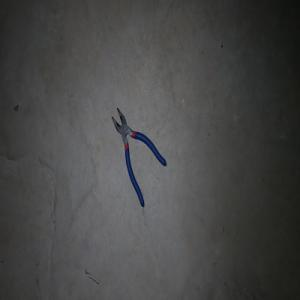Pliers: (111, 107, 166, 207)
